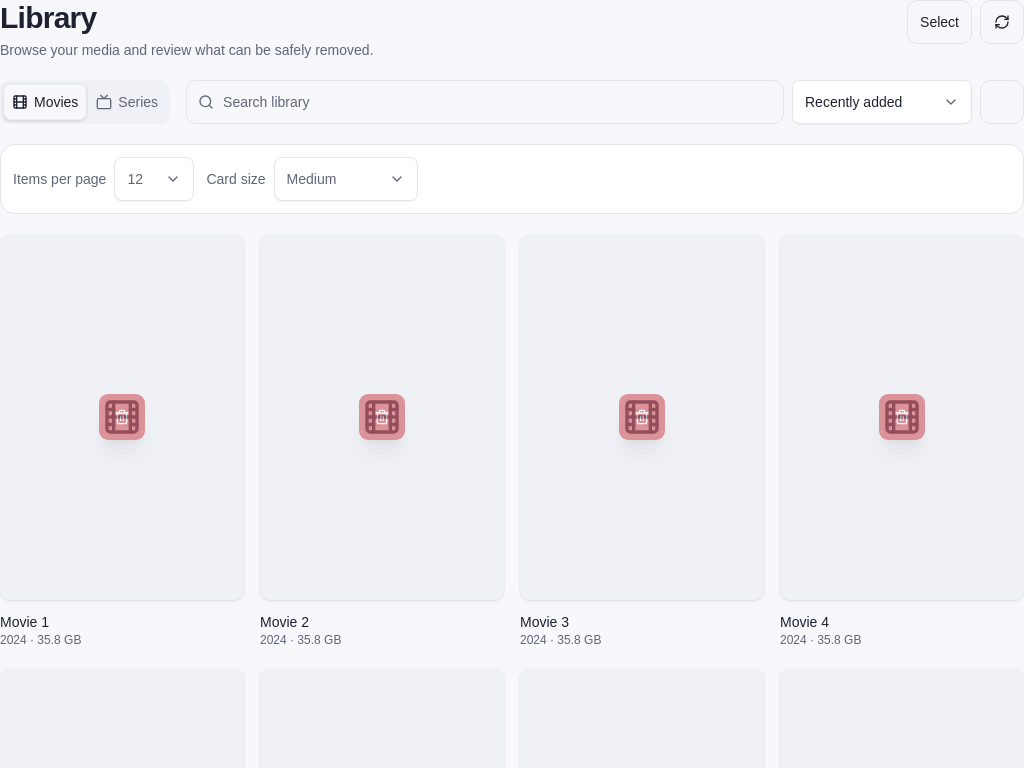
Test: LibraryPanelV2 › visibly refuses a fifty-first selection
What coordinates should you click on to do the following:
click the button "Select"
I would click on:
 (940, 22)
Its box is [907,0,972,44].
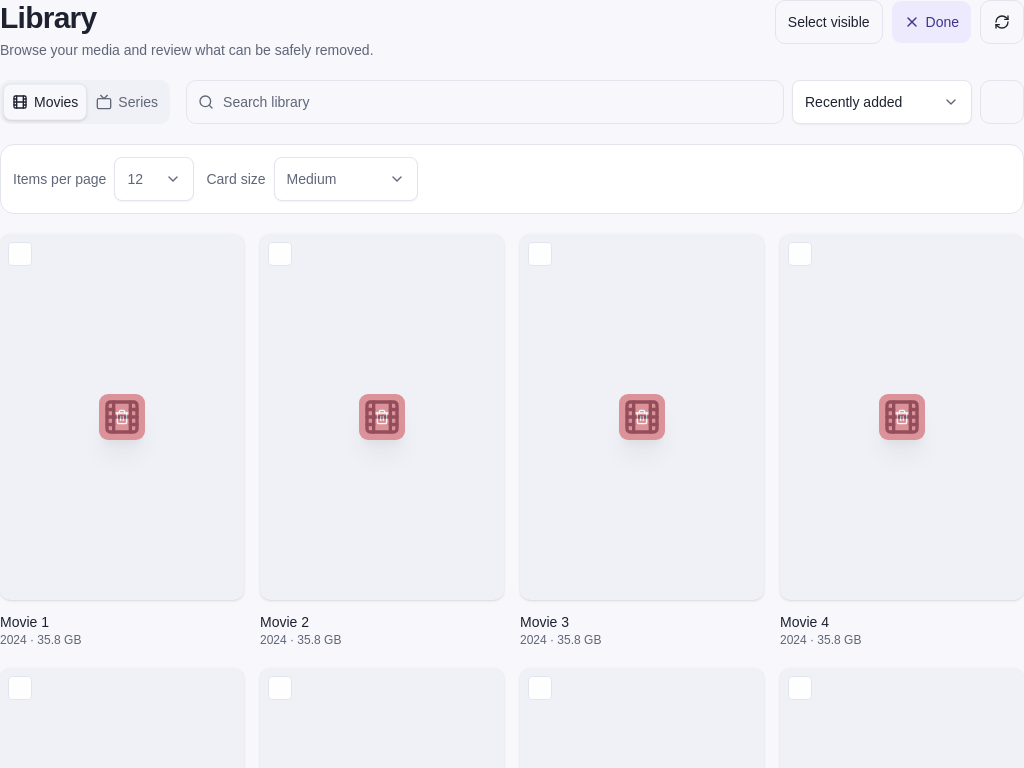
What coordinates should you click on to do the following:
click the button "Select visible"
I would click on:
 (829, 22)
Its box is [775,0,882,44].
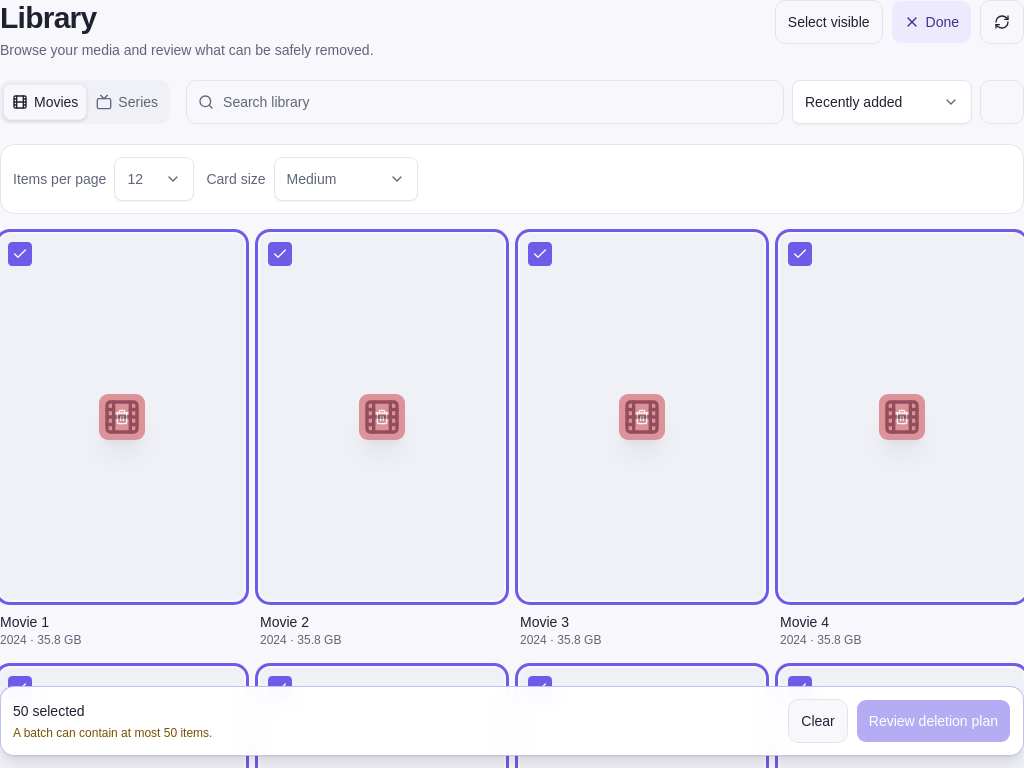
Check: the text "50 selected" is shown, box [13,703,85,719]
Check: the message reads "A batch can contain at most 50 items.", box [13,726,212,740]
